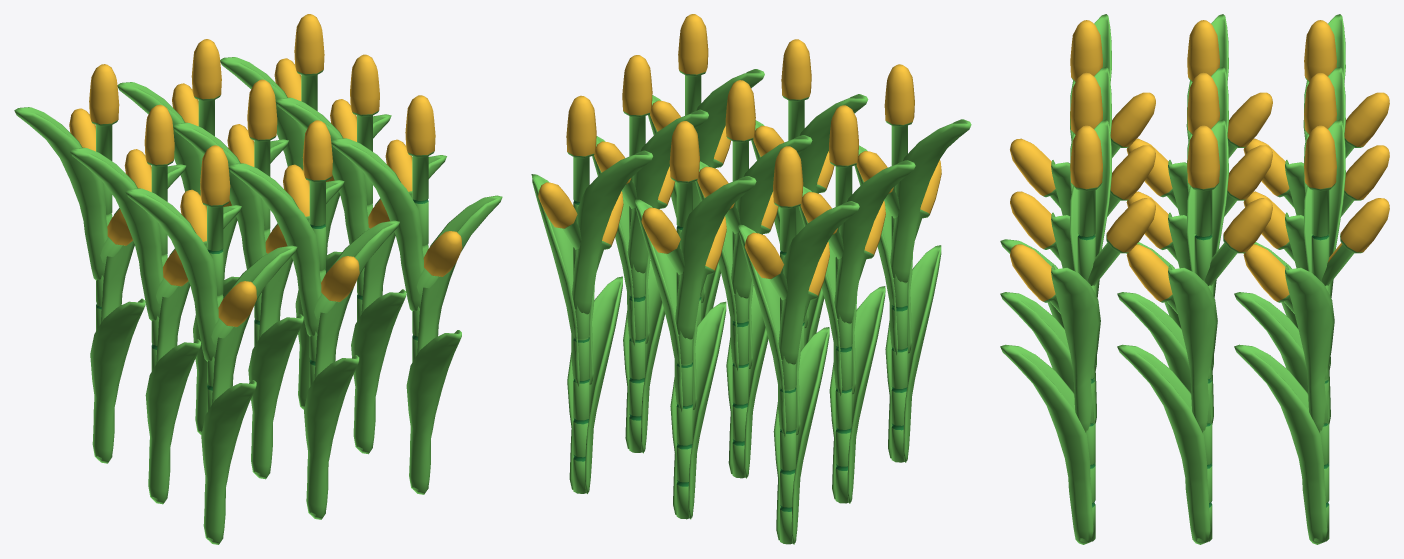
Rendered from CornBig.fbx.
3 views of the same model, side by side, from view 1: azimuth 30°, elevation 25°; view 2: azimuth 150°, elevation 25°; view 3: azimuth 270°, elevation 25° (orthographic). The views are drawn at different scales.
Parts seen in each view (by area): view 1: CornBig; view 2: CornBig; view 3: CornBig.
Boxes of the visible parts, x1,y1,x2,y2 form: CornBig: [14, 14, 502, 544]; CornBig: [531, 14, 971, 544]; CornBig: [1000, 14, 1389, 544].
Bounding box in the file's own units: 133 × 143 × 121.
